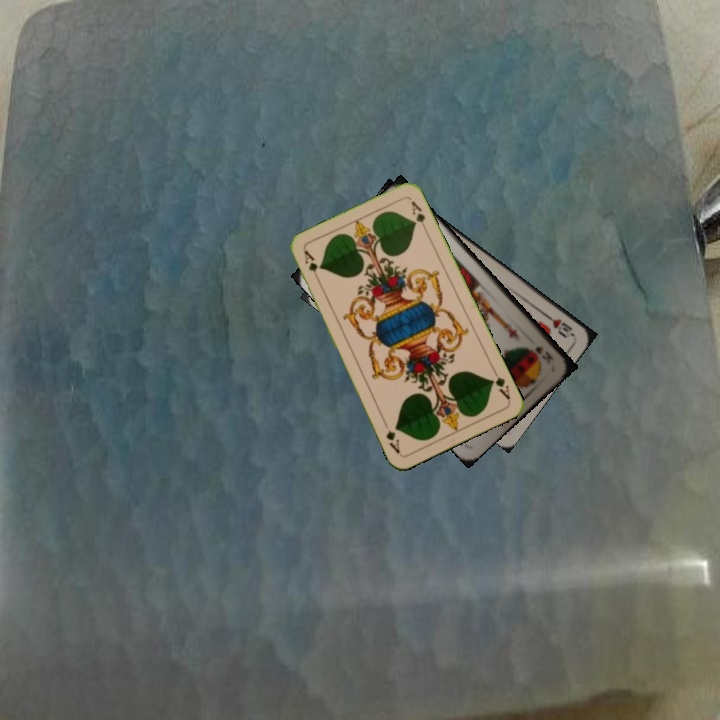GA: (487, 364, 513, 402), (300, 246, 322, 285)
H10: (541, 310, 576, 339)
SK: (531, 342, 556, 363)
